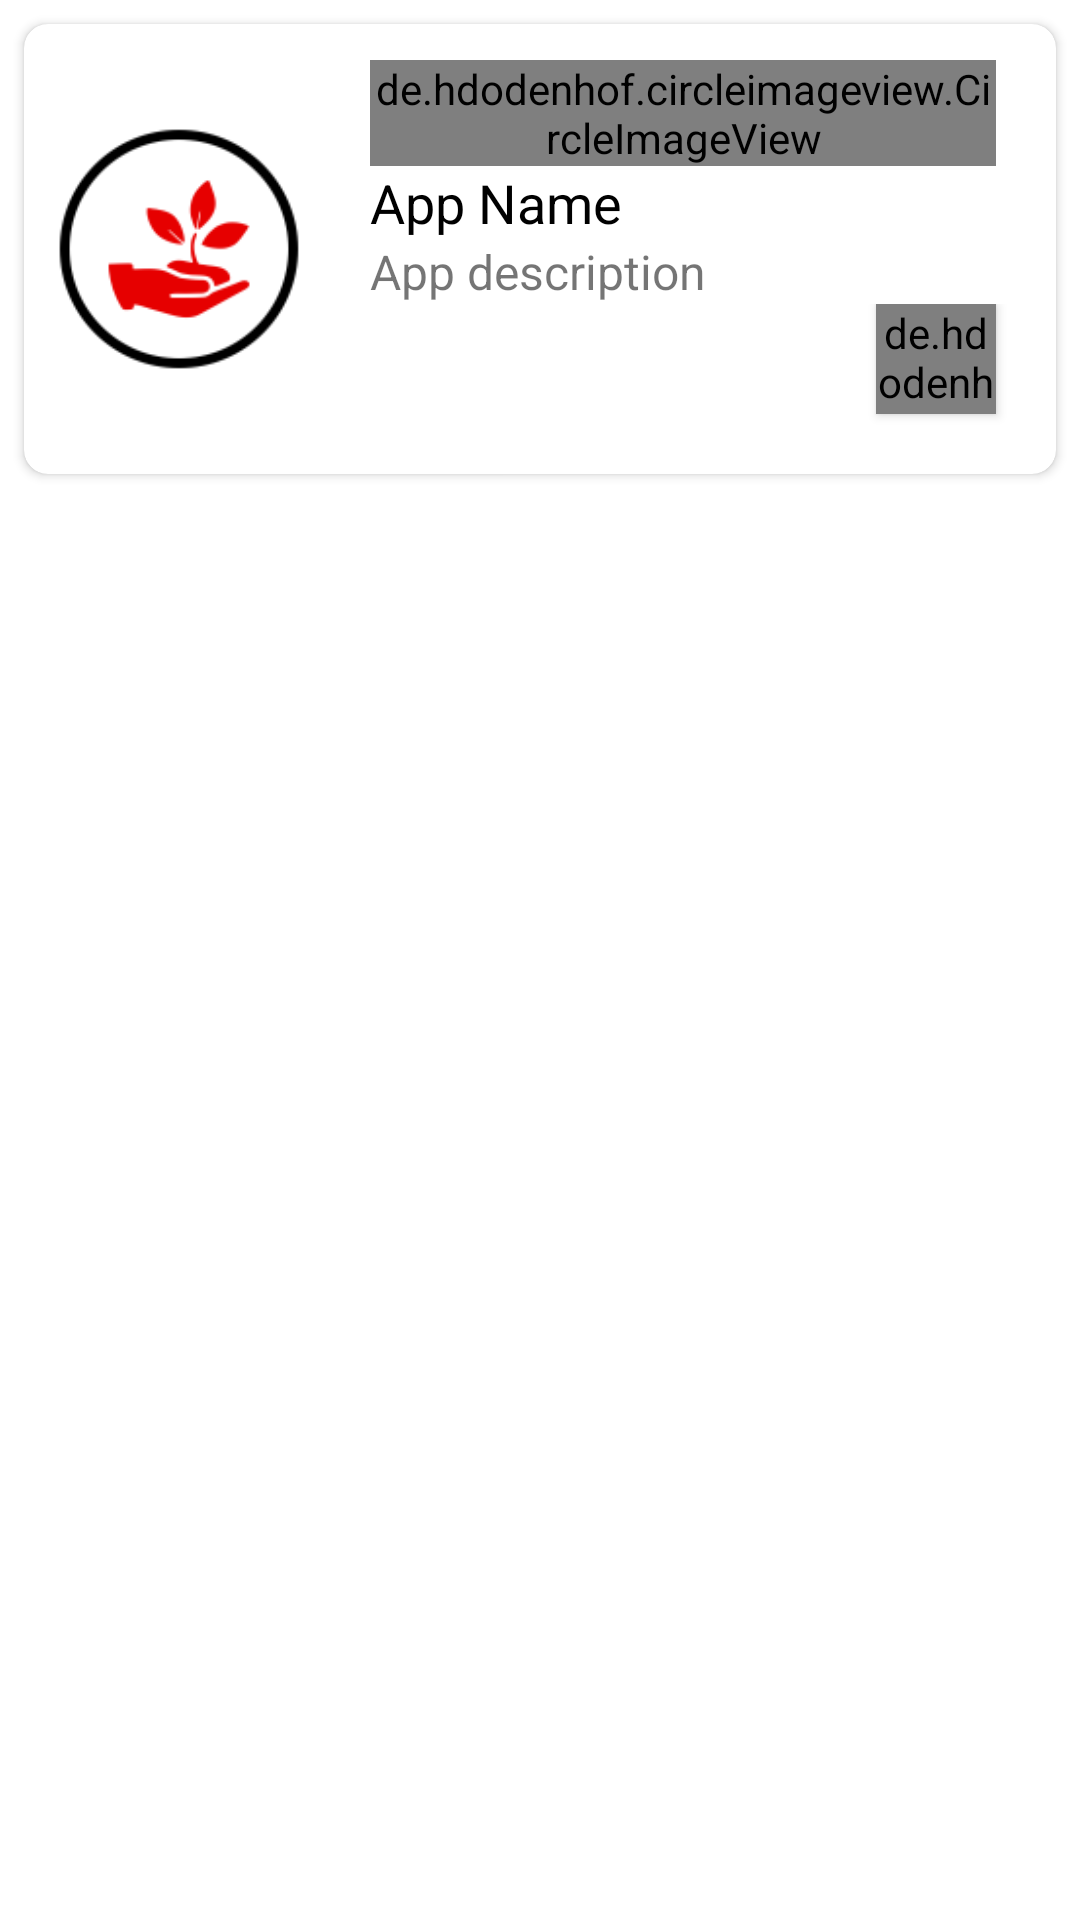

Point at icon controls on the screen. Image size 1080 × 1920, points as point (x, y).
plantation: point (167, 196)
